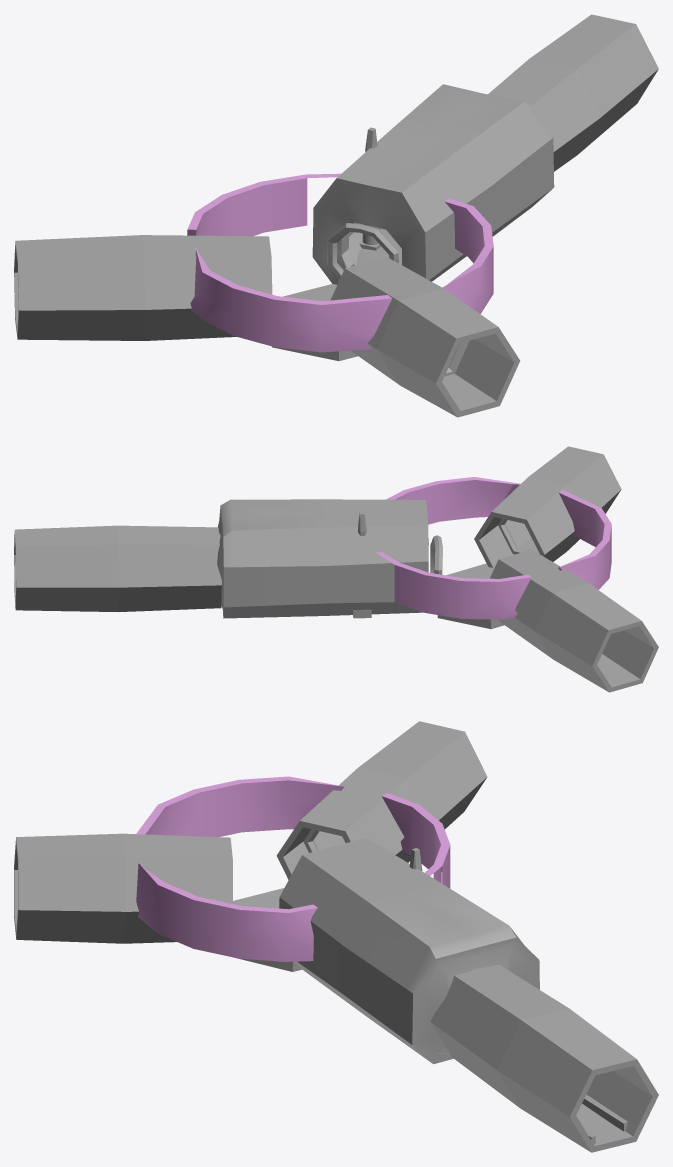
The model's file is HVCorrodedCorridors.fbx.
3 views of the same model, one above another, from view 1: azimuth 30°, elevation 25°; view 2: azimuth 150°, elevation 25°; view 3: azimuth 270°, elevation 25° (orthographic). The views are drawn at different scales.
Parts seen in each view (by area): view 1: pTorus13, pTorus10, polySurface1, pTorus9, pTorus8, pTorus12, pTorus11; view 2: pTorus13, pTorus8, pTorus10, polySurface1, pTorus9, pTorus11, pTorus12; view 3: pTorus13, pTorus8, polySurface1, pTorus9, pTorus10, pTorus11.
Part boxes in pixels (bbox=[...]): pTorus13: bbox=[312, 84, 554, 284]; pTorus10: bbox=[14, 235, 272, 340]; polySurface1: bbox=[187, 173, 493, 352]; pTorus9: bbox=[330, 257, 520, 417]; pTorus8: bbox=[488, 14, 658, 171]; pTorus12: bbox=[327, 223, 398, 282]; pTorus11: bbox=[272, 284, 357, 361]; pTorus13: bbox=[217, 499, 428, 618]; pTorus8: bbox=[14, 525, 221, 612]; pTorus10: bbox=[490, 550, 658, 692]; polySurface1: bbox=[376, 477, 611, 619]; pTorus9: bbox=[474, 446, 621, 567]; pTorus11: bbox=[437, 563, 504, 629]; pTorus12: bbox=[430, 535, 442, 574]; pTorus13: bbox=[279, 837, 539, 1064]; pTorus8: bbox=[430, 964, 658, 1152]; polySurface1: bbox=[136, 776, 450, 961]; pTorus9: bbox=[14, 833, 232, 943]; pTorus10: bbox=[276, 721, 487, 879]; pTorus11: bbox=[233, 888, 301, 971].
Bounding box in the file's own units: 51.92 × 9.27 × 38.8.
